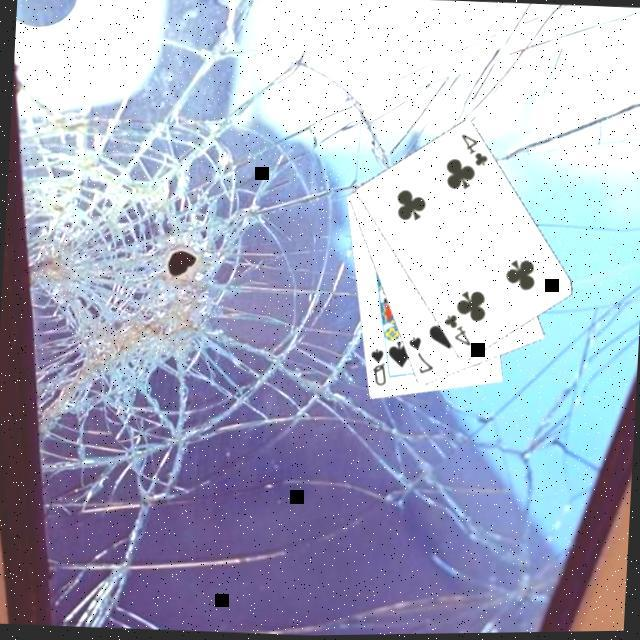4C: (438, 312, 474, 352), (454, 132, 490, 172)
7S: (402, 334, 436, 380)
QS: (364, 347, 388, 390)
